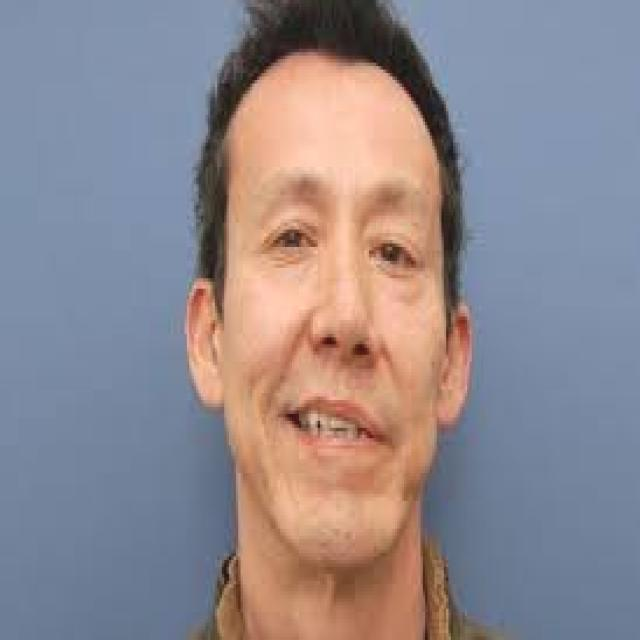stroke_face: (222, 92, 459, 588)
